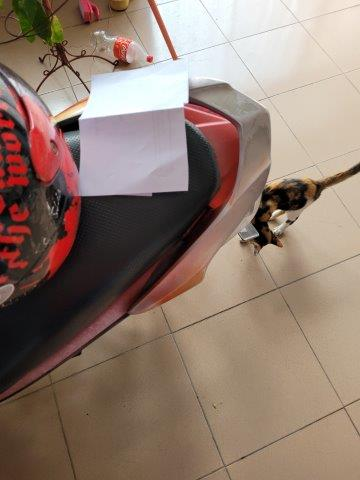botolplastik: (90, 33, 156, 64)
kertas: (75, 60, 189, 193)
